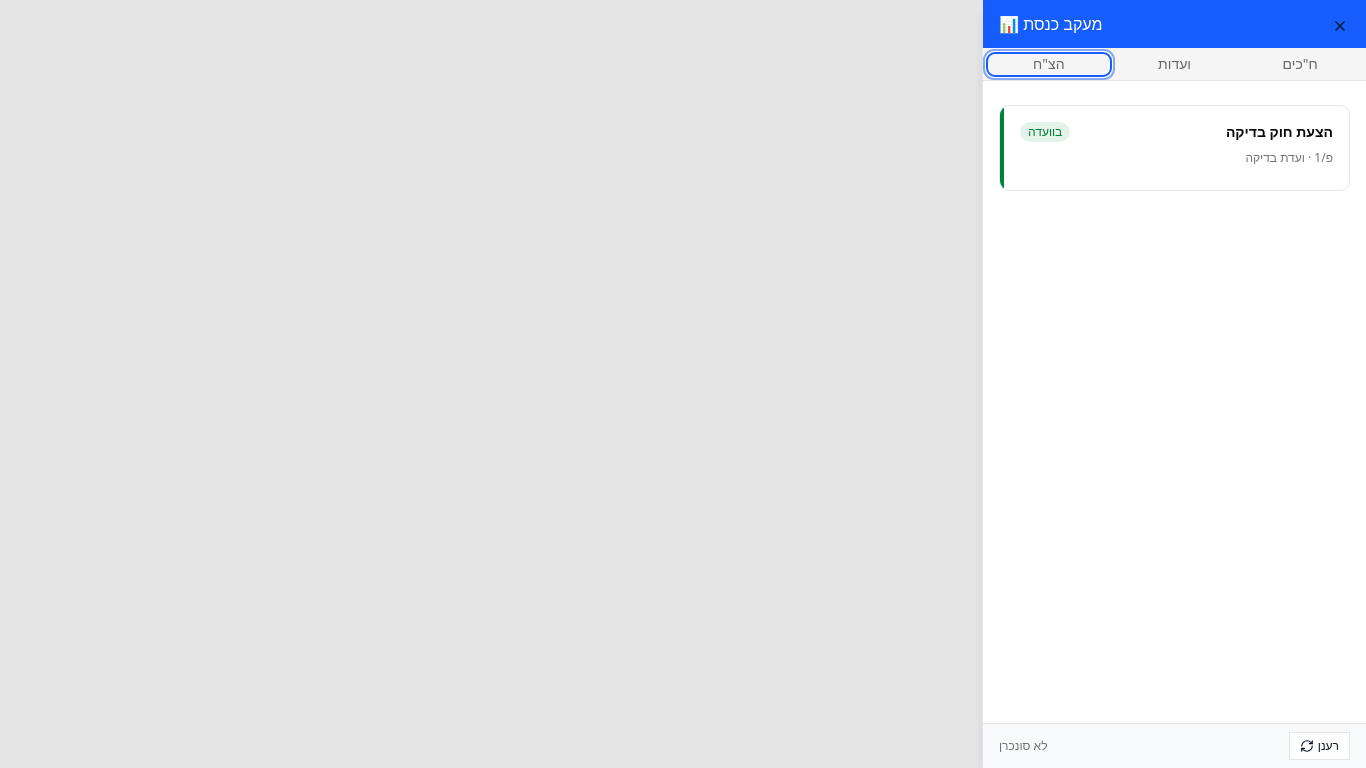
ParliamentDrawer › switches to committees tab on click
What coordinates should you click on to do the following:
click the tab "ועדות"
I would click on:
 (1175, 64)
Its box is [1112,52,1237,76].
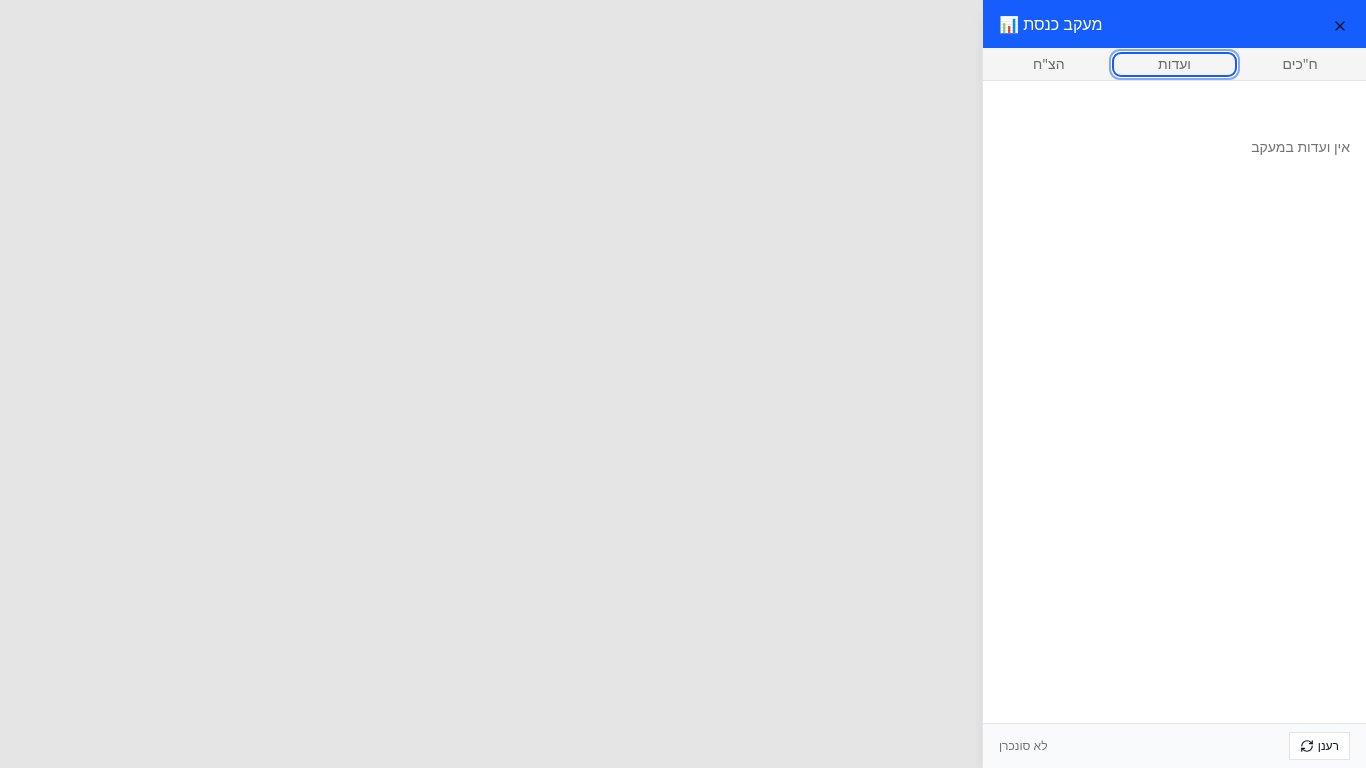
Expected: the text "אין ועדות במעקב" is shown, [1251,137,1350,156]
